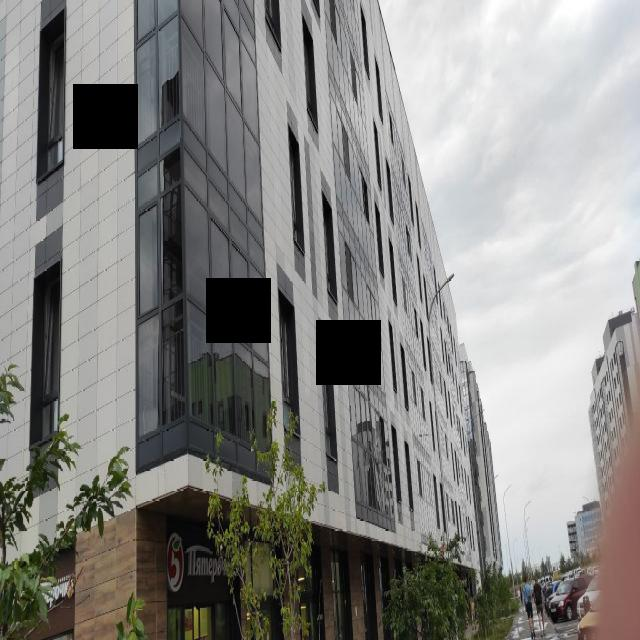Building: (0, 0, 482, 640)
